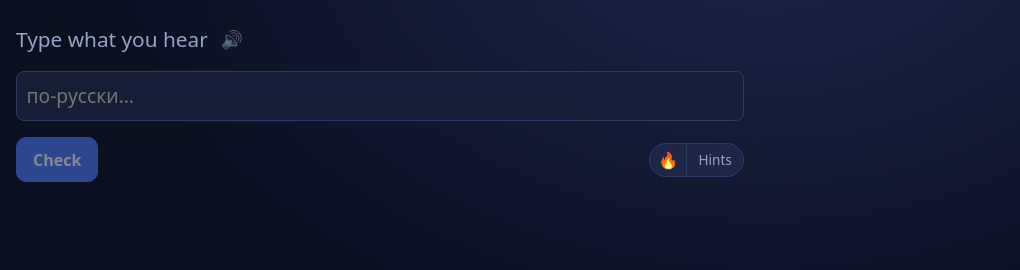
Test case: TypeExercise › says what a heard phrase meant once it is answered, even on a later encounter
Type "я иду домой" into the field with placeholder "по-русски…" at (380, 96), box [16,71,744,121]
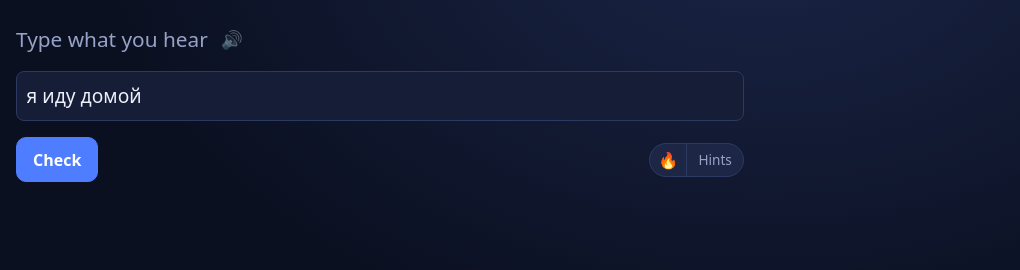
Click the button with class "check" at (57, 160), box [16,137,98,182]
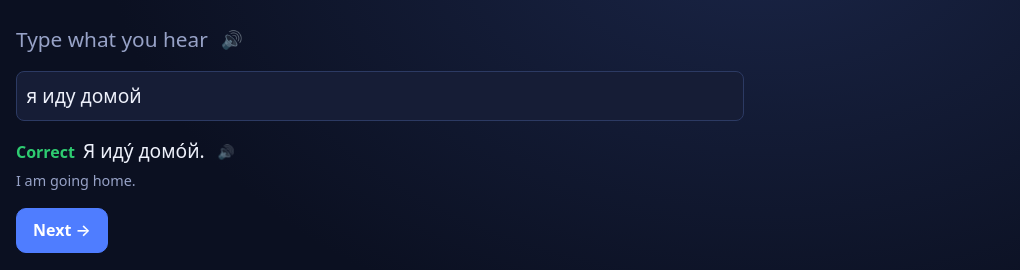
Expected: the text with class "translation-hint" reads "I am going home.", [16,171,136,190]
